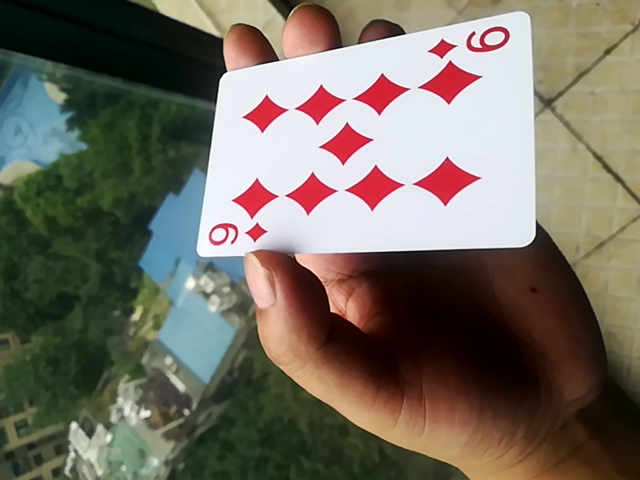fk 9: (185, 9, 545, 263)
